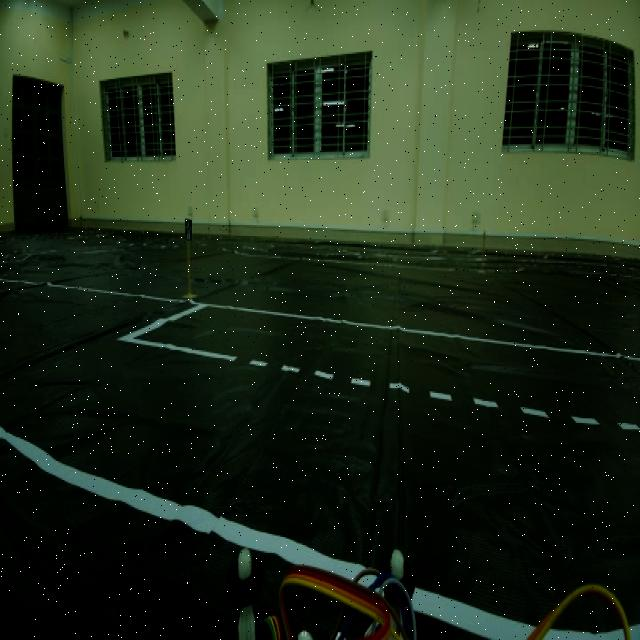highway_exit: (180, 210, 195, 248)
